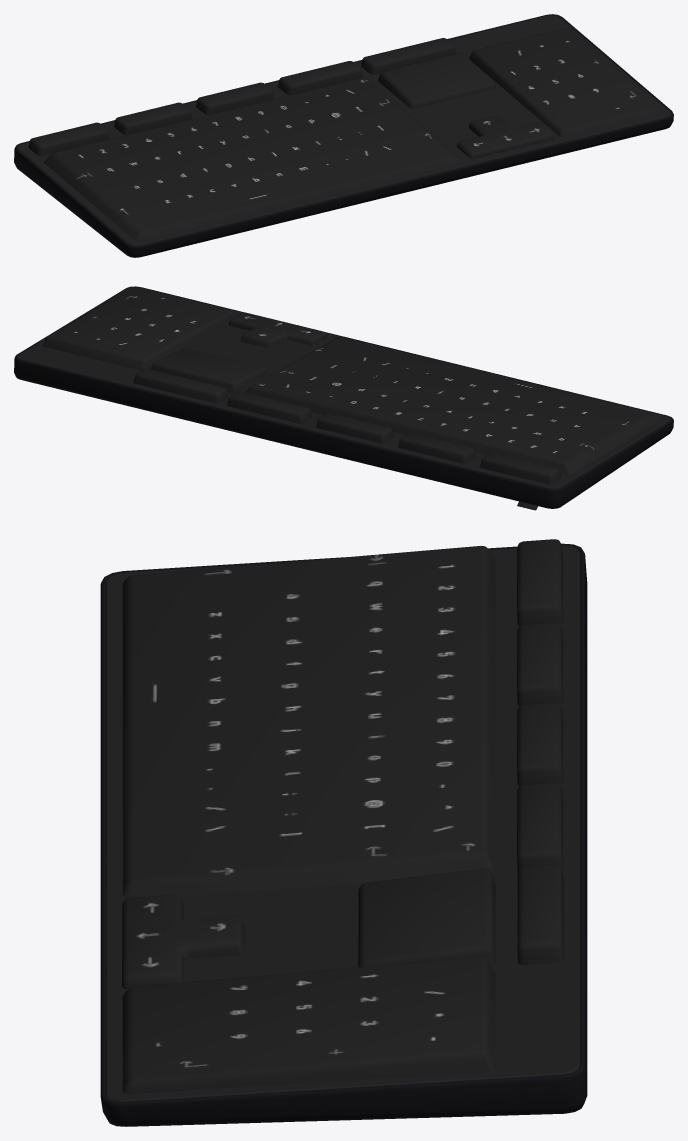
Rendered from Keyboard.fbx.
3 views of the same model, one above another, from view 1: azimuth 30°, elevation 25°; view 2: azimuth 150°, elevation 25°; view 3: azimuth 270°, elevation 25° (orthographic). The views are drawn at different scales.
Parts seen in each view (by area): view 1: Keyboard; view 2: Keyboard; view 3: Keyboard.
Part boxes in pixels (left/top/right/bottom): Keyboard: left=14, top=14, right=673, bottom=257; Keyboard: left=14, top=286, right=673, bottom=510; Keyboard: left=100, top=539, right=587, bottom=1126.
Bounding box in the file's own units: 0.8922 × 0.0581 × 0.3438.
